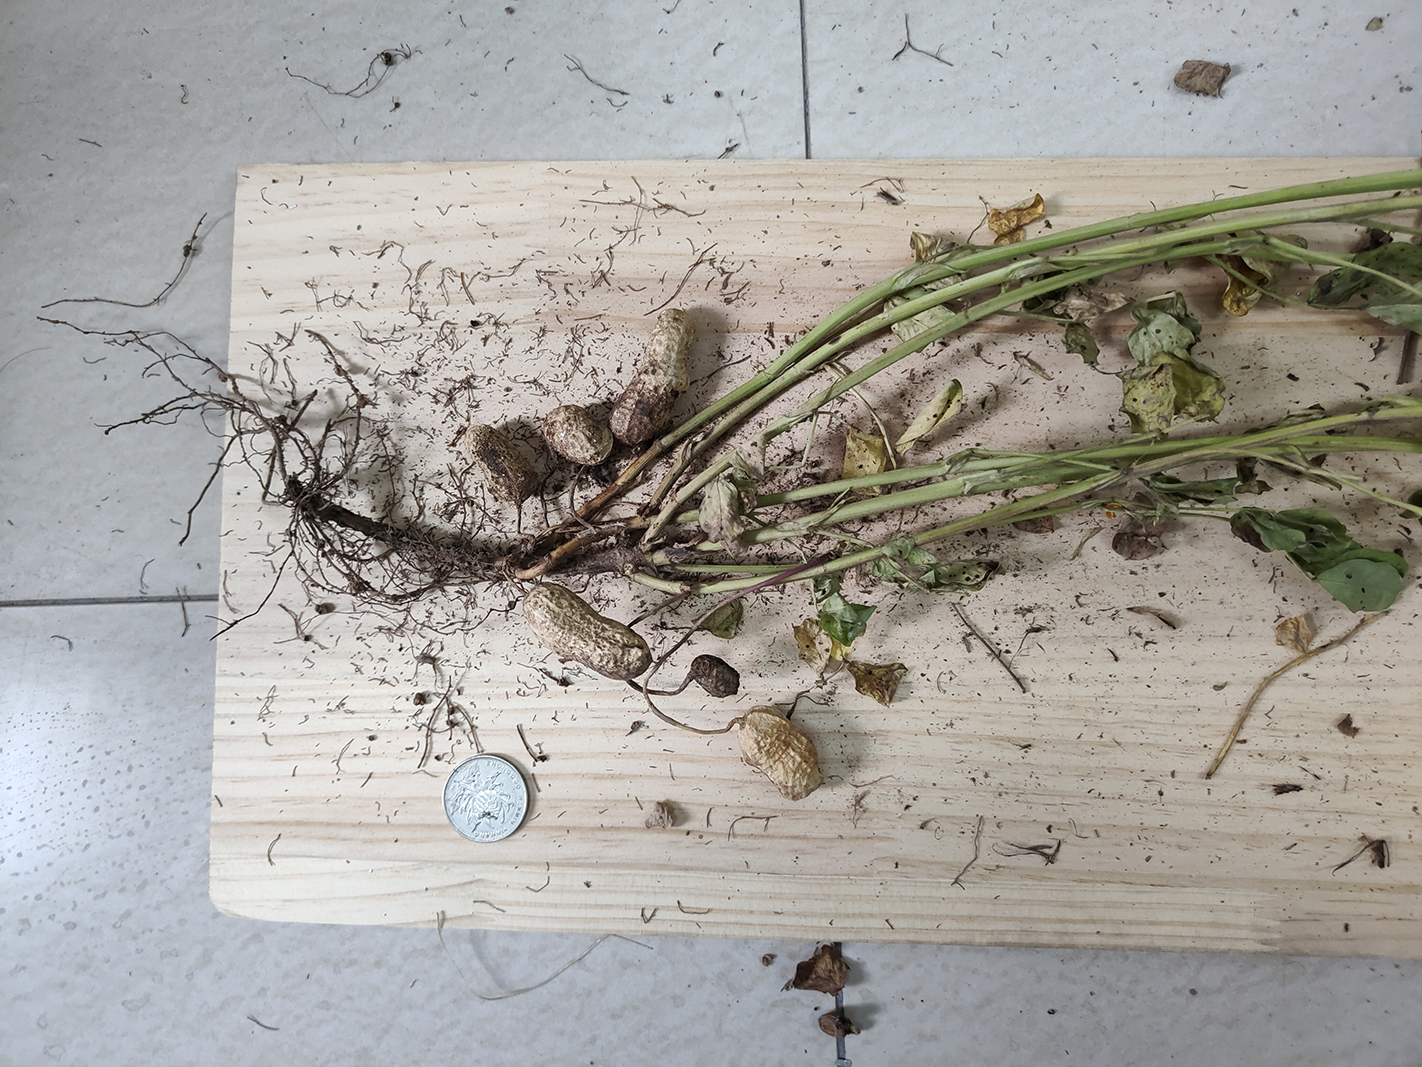h: (522, 582, 653, 679), (611, 308, 688, 445), (741, 707, 822, 798), (543, 403, 613, 464)
l: (462, 425, 528, 502), (689, 655, 742, 700)
